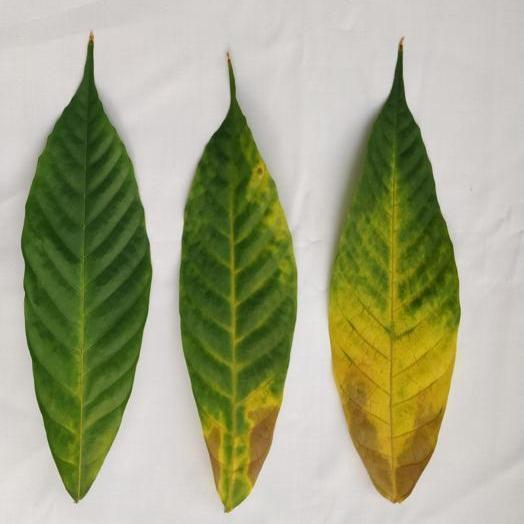Healthy Leaf: (179, 55, 296, 510)
